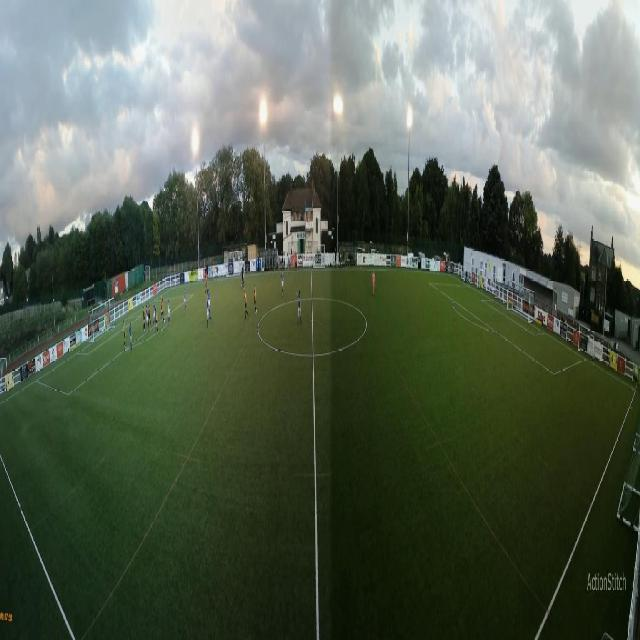ball: (241, 285, 242, 287)
player: (296, 289, 302, 325), (206, 295, 212, 329), (244, 288, 249, 319), (254, 285, 258, 315), (123, 320, 127, 349), (162, 299, 166, 328), (167, 297, 171, 325), (155, 308, 159, 335), (372, 271, 376, 297), (148, 304, 152, 328), (183, 288, 187, 312), (130, 322, 133, 350), (208, 289, 211, 317), (281, 270, 284, 298), (143, 306, 146, 333), (153, 300, 156, 327), (146, 305, 149, 331), (105, 313, 108, 335), (160, 296, 163, 318), (205, 275, 208, 296), (243, 265, 245, 287), (242, 267, 244, 288), (208, 288, 209, 296)
